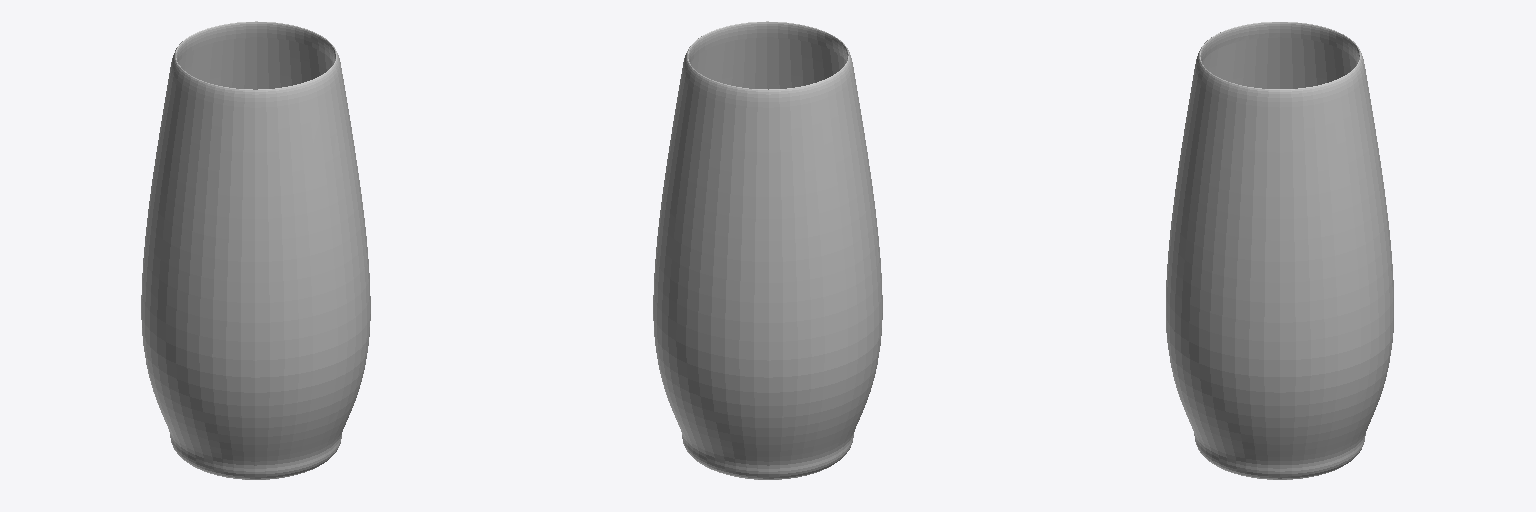
The model's file is glassvase.obj.
3 views of the same model, side by side, from view 1: azimuth 30°, elevation 25°; view 2: azimuth 150°, elevation 25°; view 3: azimuth 270°, elevation 25° (orthographic).
Parts seen in each view (by area): view 1: house_interior:Teapot001 group1; view 2: house_interior:Teapot001 group1; view 3: house_interior:Teapot001 group1.
Part boxes in pixels (x1,y1,x2,y2): house_interior:Teapot001 group1: (141, 21, 370, 479); house_interior:Teapot001 group1: (653, 21, 882, 479); house_interior:Teapot001 group1: (1166, 22, 1393, 479).
Bounding box in the file's own units: 0.4556 × 0.8813 × 0.4556.